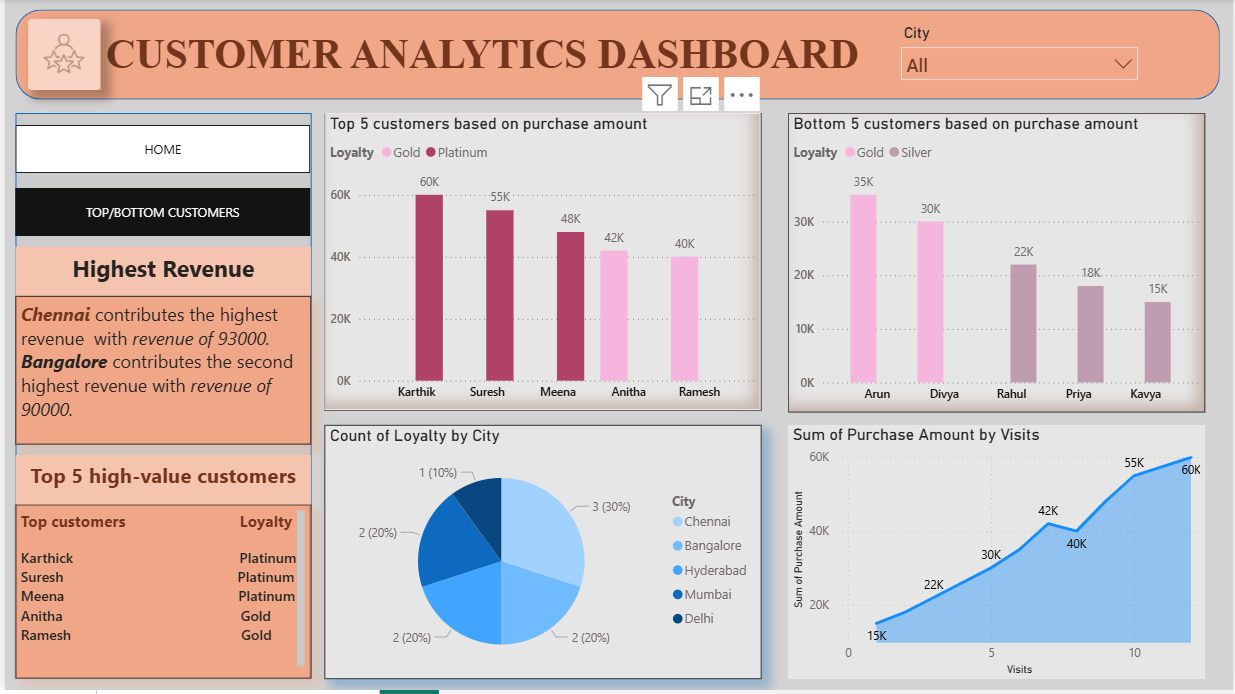

Layout of this report page (visuals, bound fields, positions):
{"tool":"powerbi","page":{"name":"TOP/BOTTOM  CUSTOMERS","canvas":[1280,720],"ordinal":1},"visuals":[{"type":"shape","box":[11.1,119.3,308.6,588.5],"z":0},{"type":"shape","box":[11.1,11.1,1255,93.8],"z":1000},{"type":"textbox","box":[100.2,28.6,800.1,62],"z":2000},{"type":"slicer","fields":{"Values":["CusomerAnalytics.Loyalty"]},"box":[924.1,20.8,266.5,75.6],"z":3000},{"type":"image","box":[23.9,20.7,76.3,74.8],"z":4000},{"type":"pageNavigator","box":[10.9,131.3,307.9,50],"z":5000},{"type":"pageNavigator","box":[10.9,196.9,307.9,50],"z":7000},{"type":"textbox","box":[10.9,257.9,307.9,51.6],"z":8000},{"type":"textbox","box":[10.9,309.5,307.9,154.7],"z":9000},{"type":"textbox","box":[10.9,526.7,307.9,181.3],"z":10000},{"type":"textbox","box":[10.9,475.1,307.9,51.6],"z":11000},{"type":"clusteredColumnChart","title":"Top 5 customers based on purchase amount","fields":{"Category":["CusomerAnalytics.Customer Name"],"Y":["Sum(CusomerAnalytics.Purchase Amount)"],"Series":["CusomerAnalytics.Loyalty"]},"box":[332.6,119.1,455.4,309.9],"z":12000},{"type":"pieChart","fields":{"Category":["CusomerAnalytics.City"],"Y":["CountNonNull(CusomerAnalytics.Loyalty)"]},"box":[332.6,444.1,455.4,264.6],"z":12001},{"type":"clusteredColumnChart","title":"Bottom 5 customers based on purchase amount","fields":{"Category":["CusomerAnalytics.Customer Name"],"Y":["Sum(CusomerAnalytics.Purchase Amount)"],"Series":["CusomerAnalytics.Loyalty"]},"box":[816.4,119.1,434.6,311.8],"z":12002},{"type":"waterfallChart","fields":{"Category":["CusomerAnalytics.Loyalty"],"Y":["Sum(CusomerAnalytics.Purchase Amount)"]},"box":[816.4,444.1,434.6,264.6],"z":12003}]}

Visuals, with their boxes in screenshot pixels (x1, y1, x2, y2), scaled from the page's 1280x720 canvas onto the 1235x694 screenshot:
shape: bbox=(11, 115, 308, 682)
shape: bbox=(11, 11, 1222, 101)
textbox: bbox=(97, 28, 869, 87)
slicer - CusomerAnalytics.Loyalty: bbox=(892, 20, 1149, 93)
image: bbox=(23, 20, 97, 92)
pageNavigator: bbox=(11, 127, 308, 175)
pageNavigator: bbox=(11, 190, 308, 238)
textbox: bbox=(11, 249, 308, 298)
textbox: bbox=(11, 298, 308, 447)
textbox: bbox=(11, 508, 308, 682)
textbox: bbox=(11, 458, 308, 508)
"Top 5 customers based on purchase amount" clusteredColumnChart: bbox=(321, 115, 760, 414)
pieChart - CusomerAnalytics.City x CountNonNull(CusomerAnalytics.Loyalty): bbox=(321, 428, 760, 683)
"Bottom 5 customers based on purchase amount" clusteredColumnChart: bbox=(788, 115, 1207, 415)
waterfallChart - CusomerAnalytics.Loyalty x Sum(CusomerAnalytics.Purchase Amount): bbox=(788, 428, 1207, 683)
